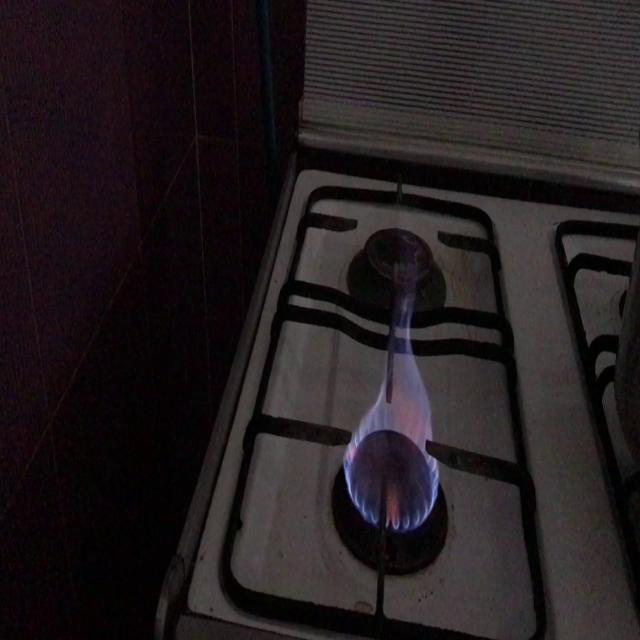Fire: (352, 280, 436, 552)
